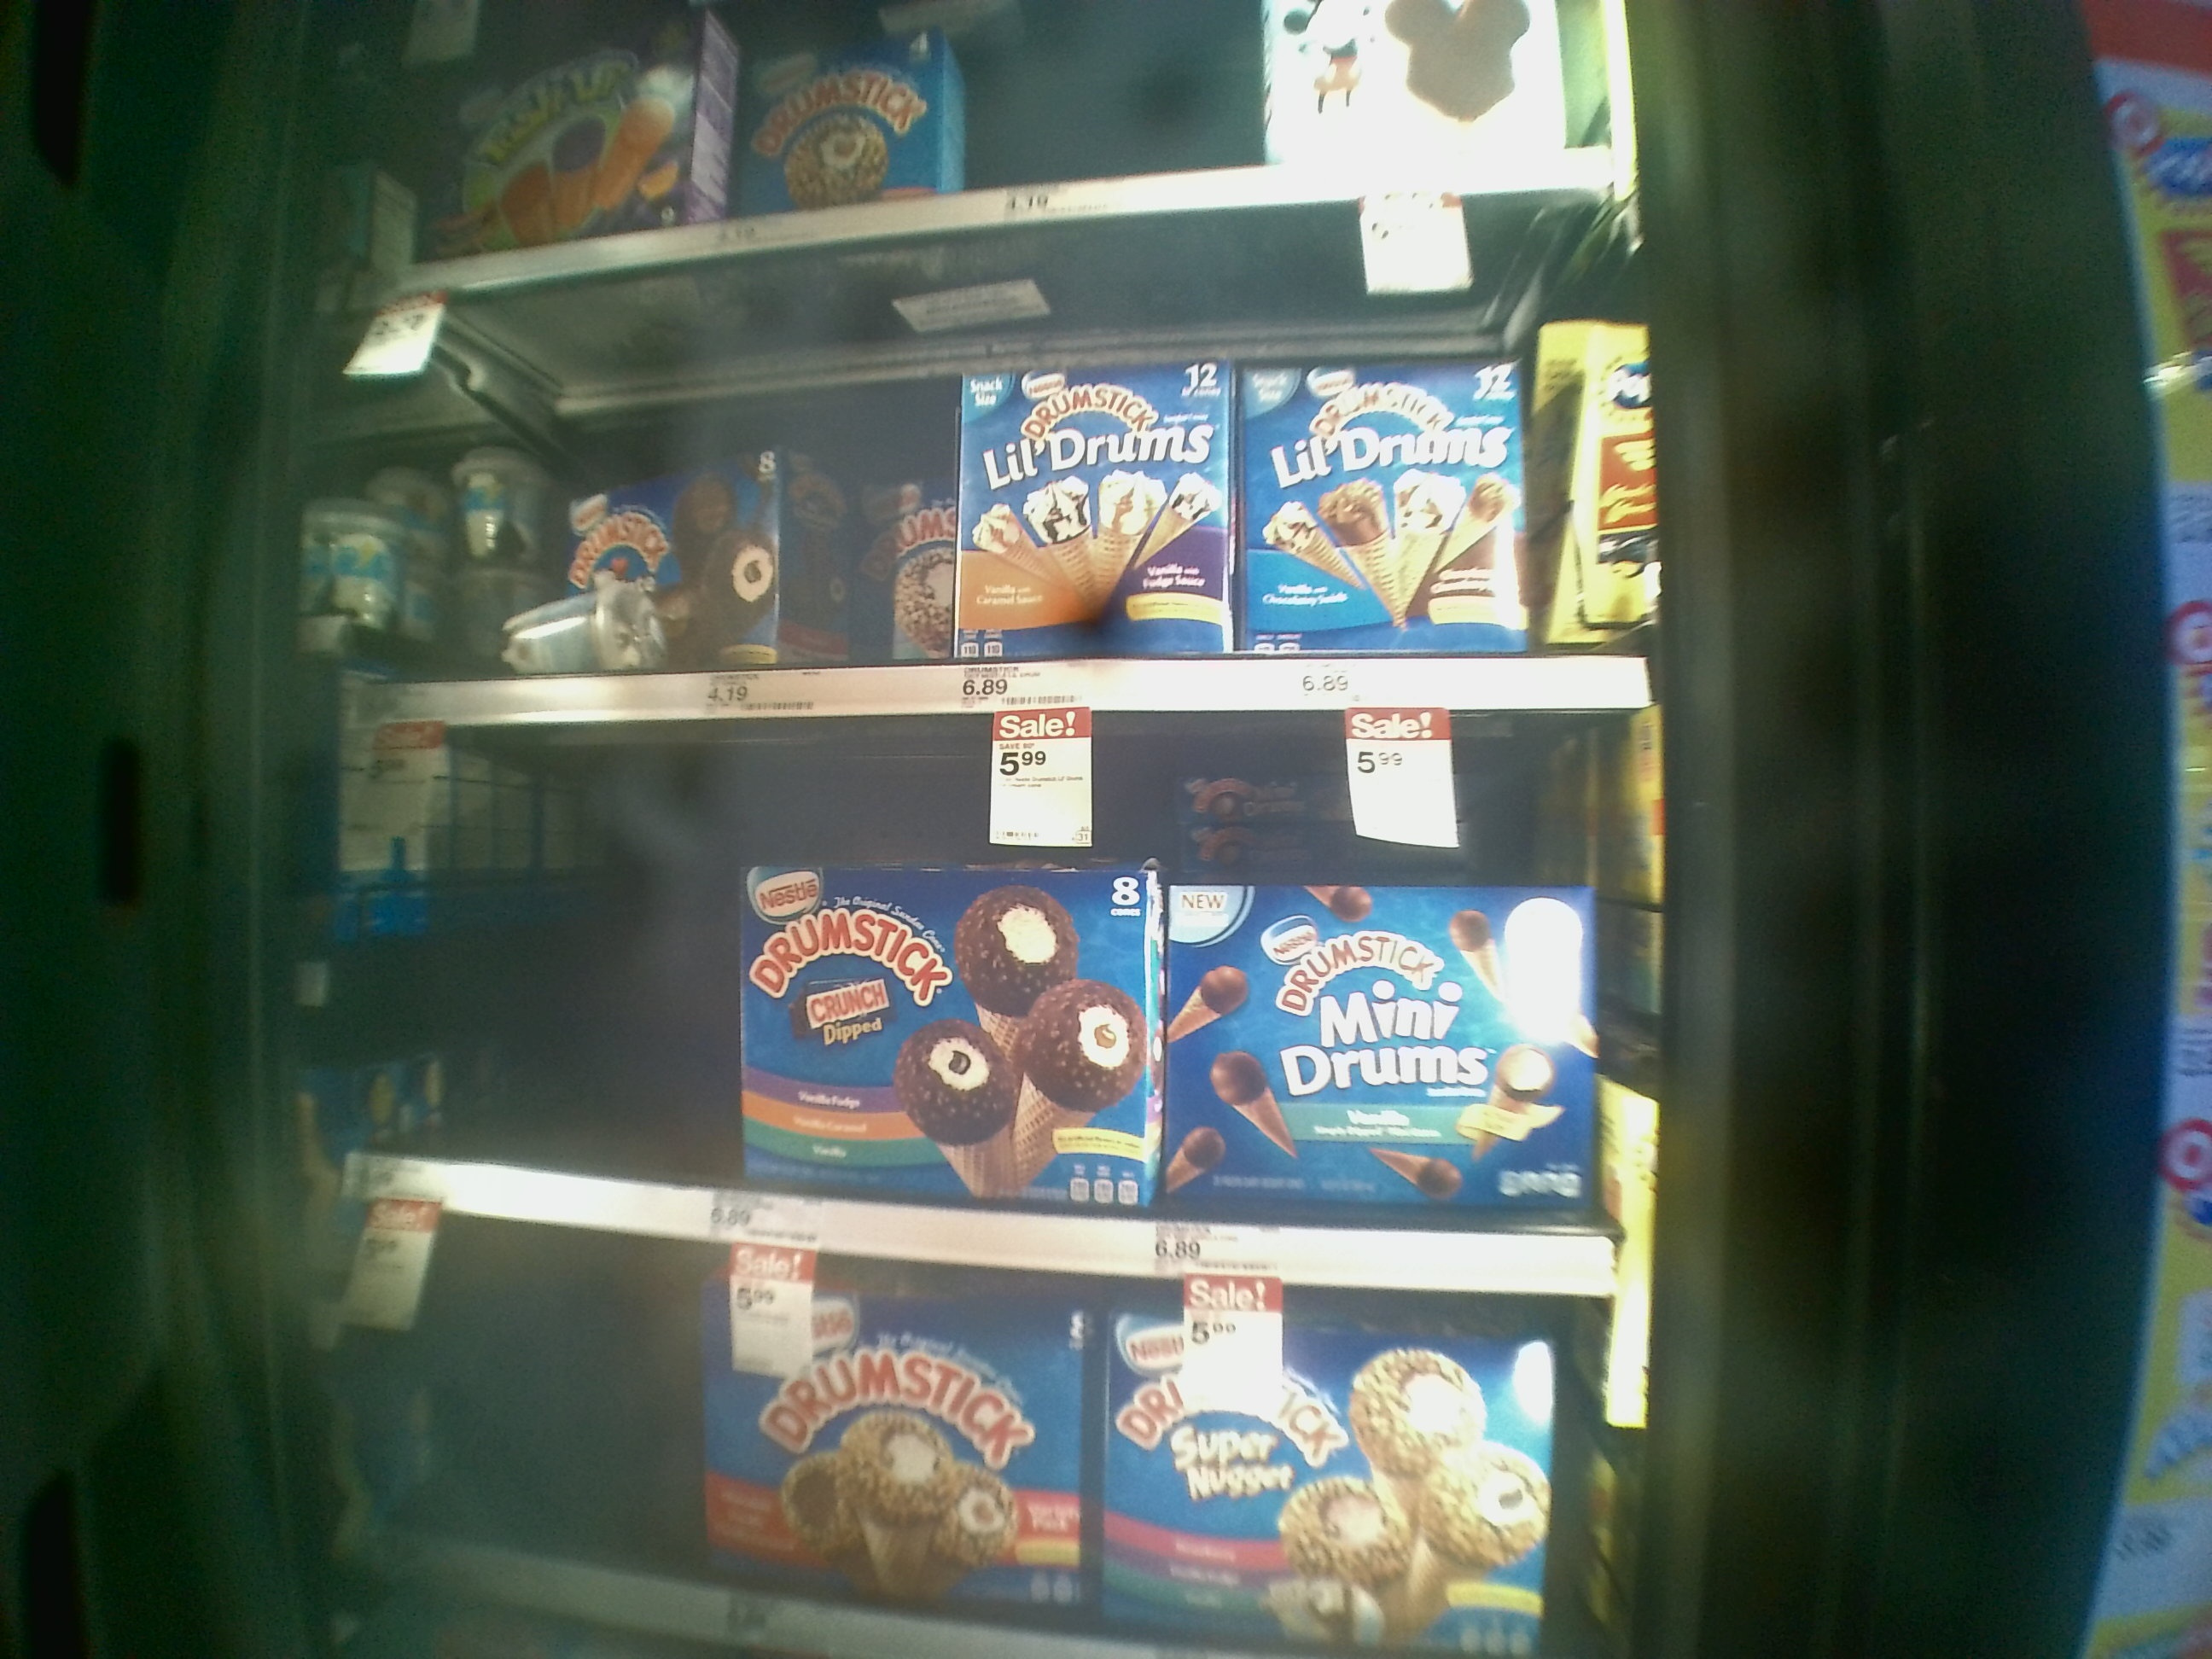shelf: (361, 708, 1656, 1291), (355, 185, 1662, 708)
